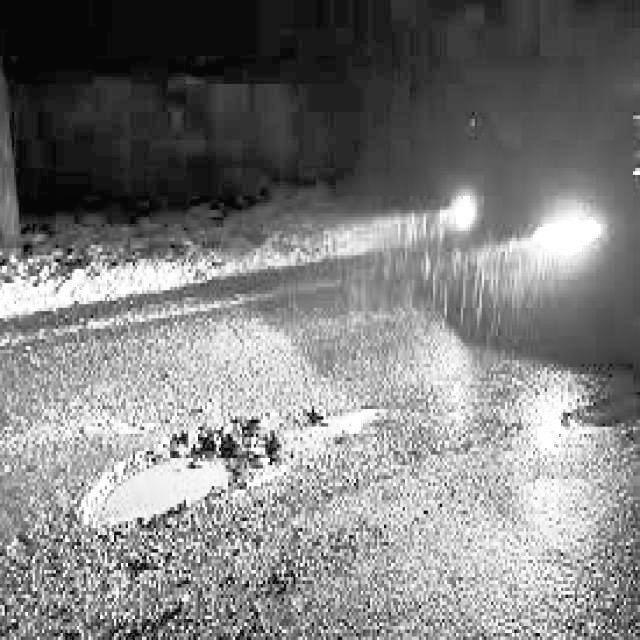Pothole: (73, 400, 290, 535), (557, 355, 640, 454)
